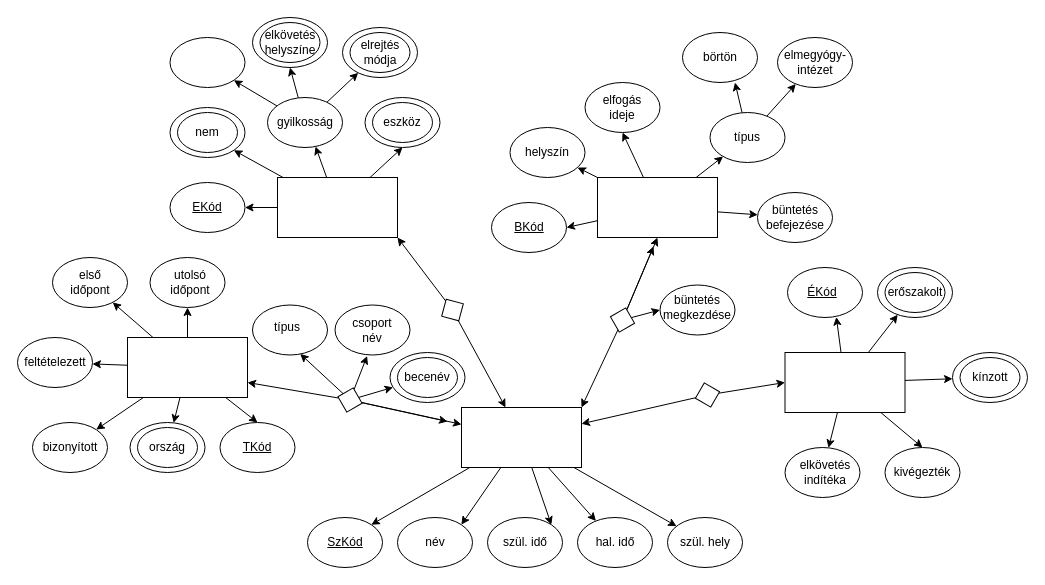
The diagram is 1045 pixels wide and 585 high, and some of its shapes have lost their labels. Each missing label, with the centre of its shape:
"Büntetés" belongs at [657,207].
"Elkövetés módja" belongs at [337,207].
"napszak" belongs at [207,62].
"Személyek" belongs at [521,437].
"Tevékenység" belongs at [187,367].
"Érdekességek" belongs at [844,382].
